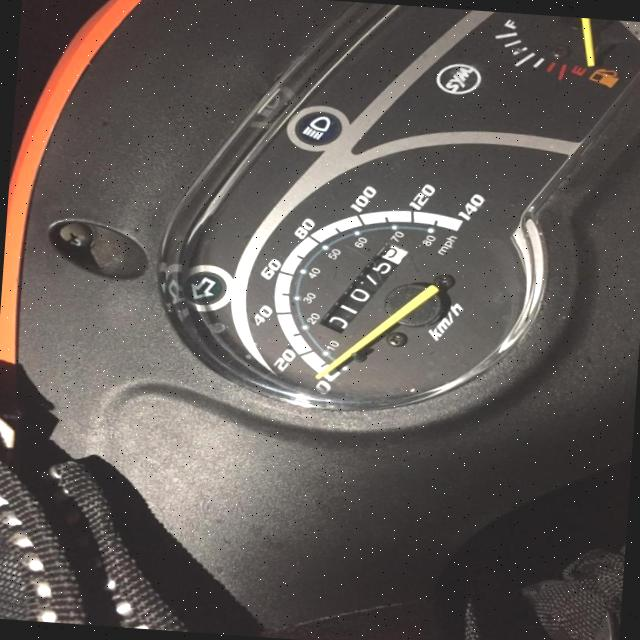odometer: (313, 234, 411, 338)
